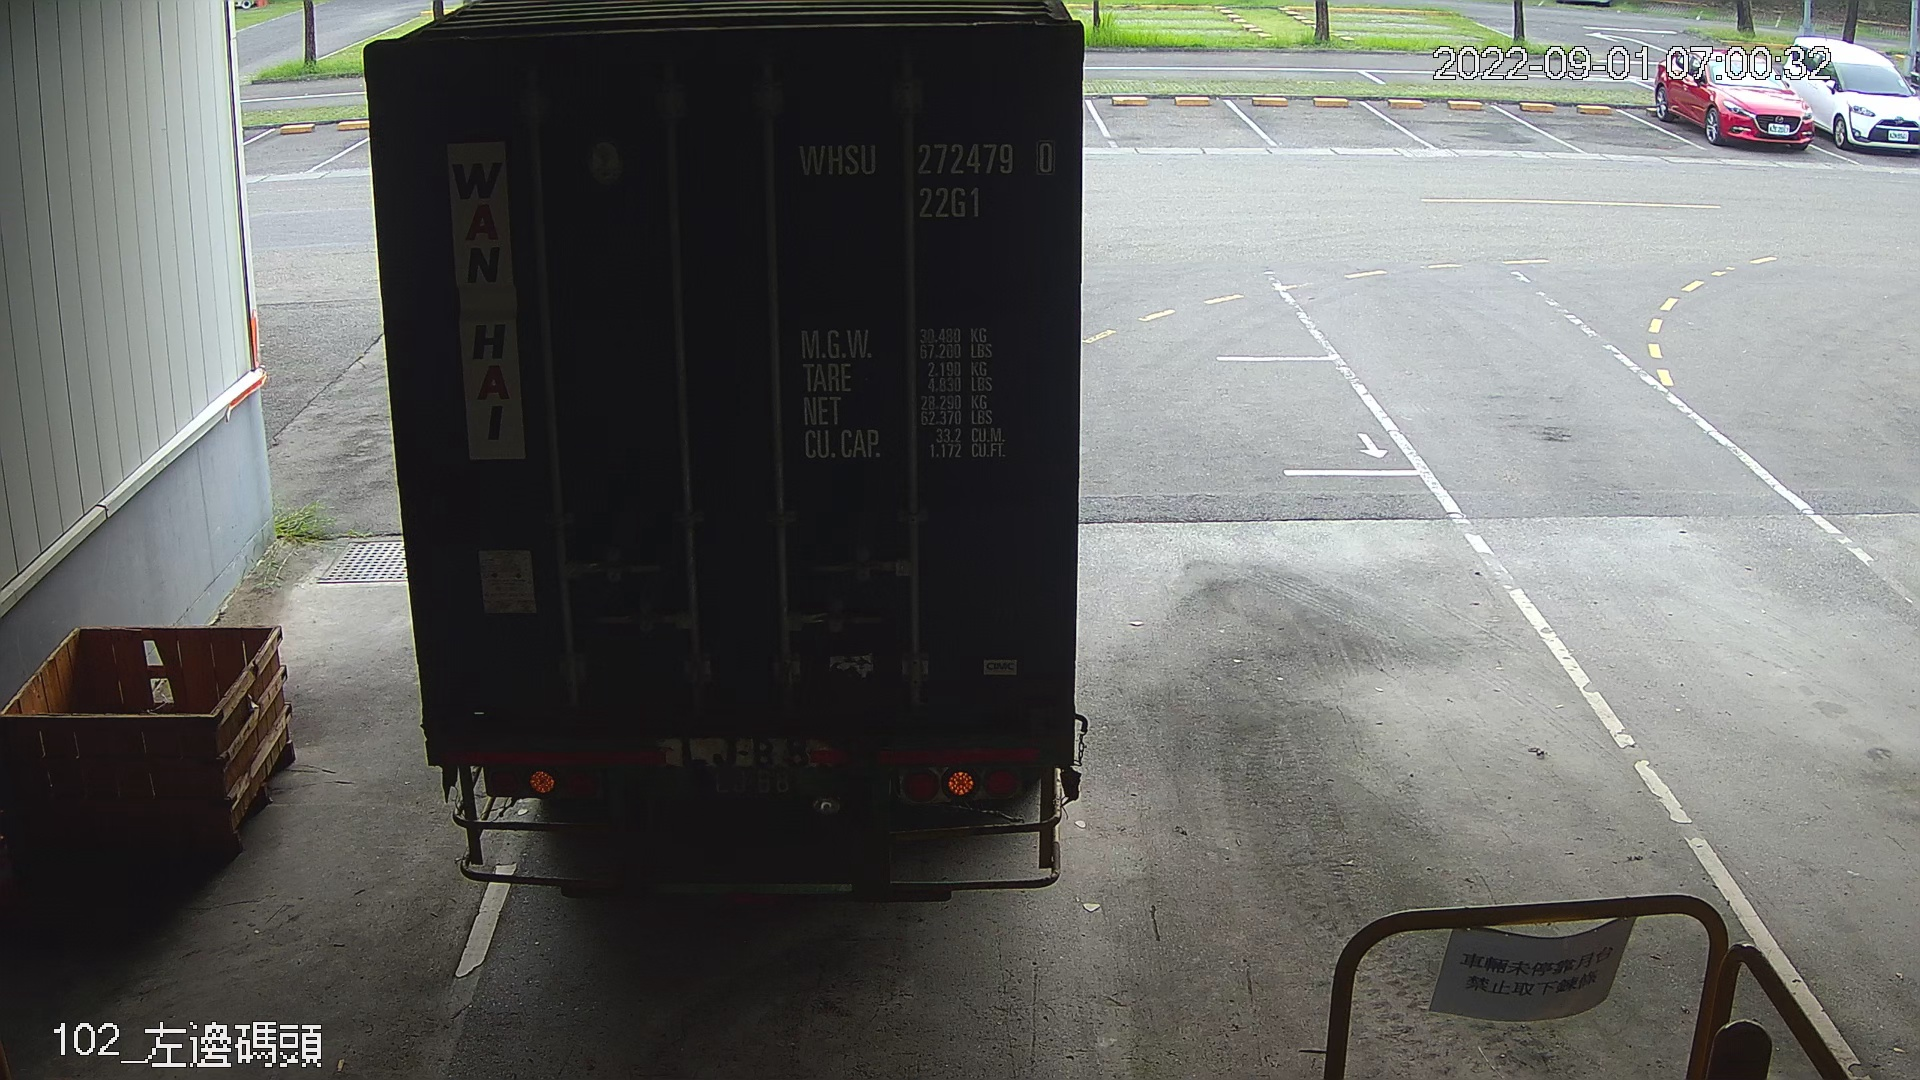container: (787, 127, 1065, 229)
